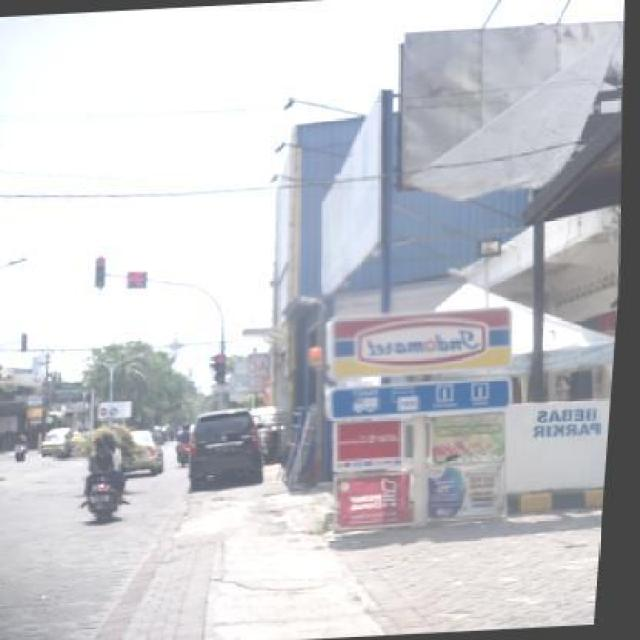Traffic Light -Red-: (94, 255, 105, 288)
